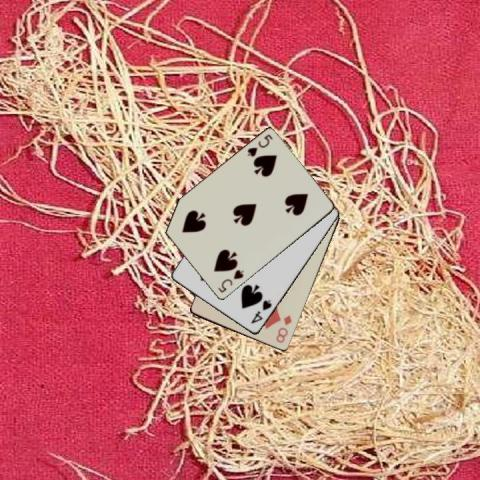4s: (248, 297, 273, 325)
5s: (214, 266, 244, 294), (244, 131, 274, 159)
8d: (273, 312, 294, 345)
